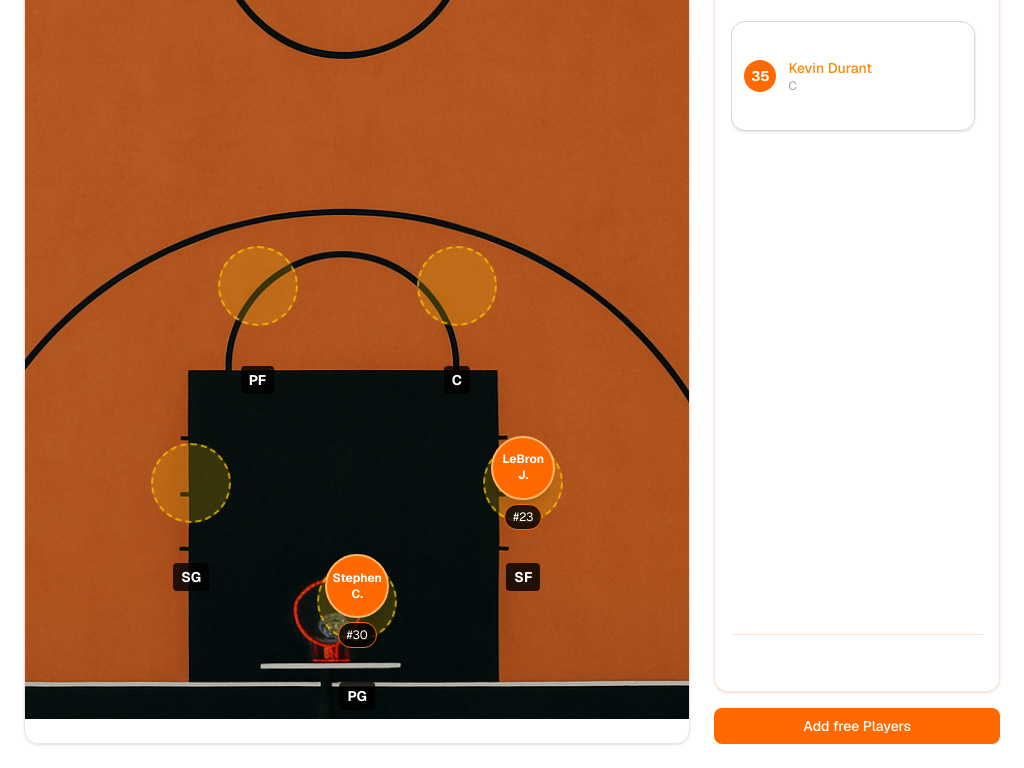
Test: TeamManagement › Unassigned Players Dialog › should open dialog when button is clicked
The image size is (1024, 768).
(page scrolled)
Click the button "Add free Players": (857, 726) [714, 708, 1000, 744]
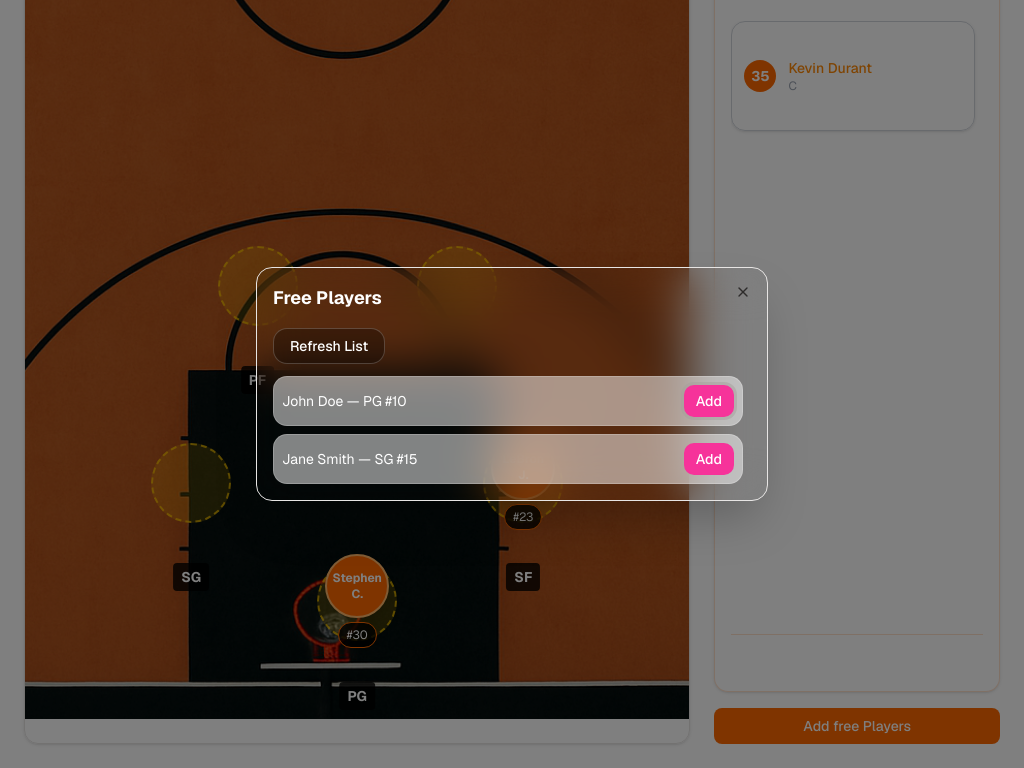
Result: the heading "Free Players" is shown at [273, 286, 382, 309]
